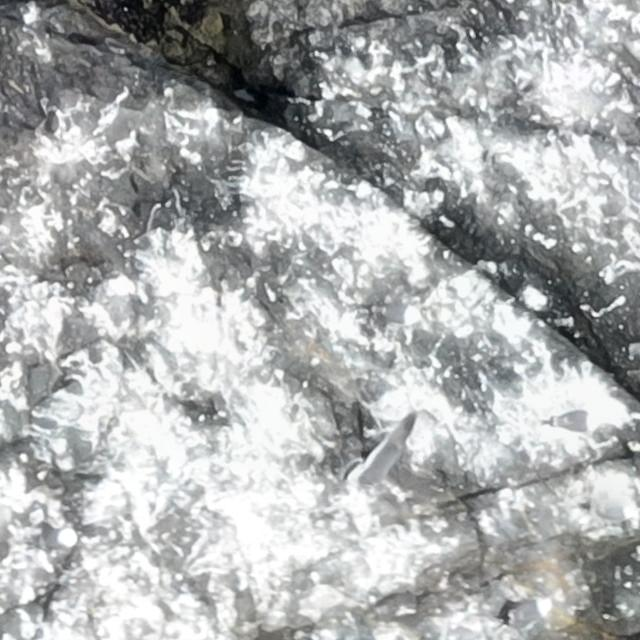umineko: (372, 299, 417, 330), (506, 598, 554, 625), (40, 526, 76, 554), (586, 504, 636, 522), (553, 410, 596, 430)
